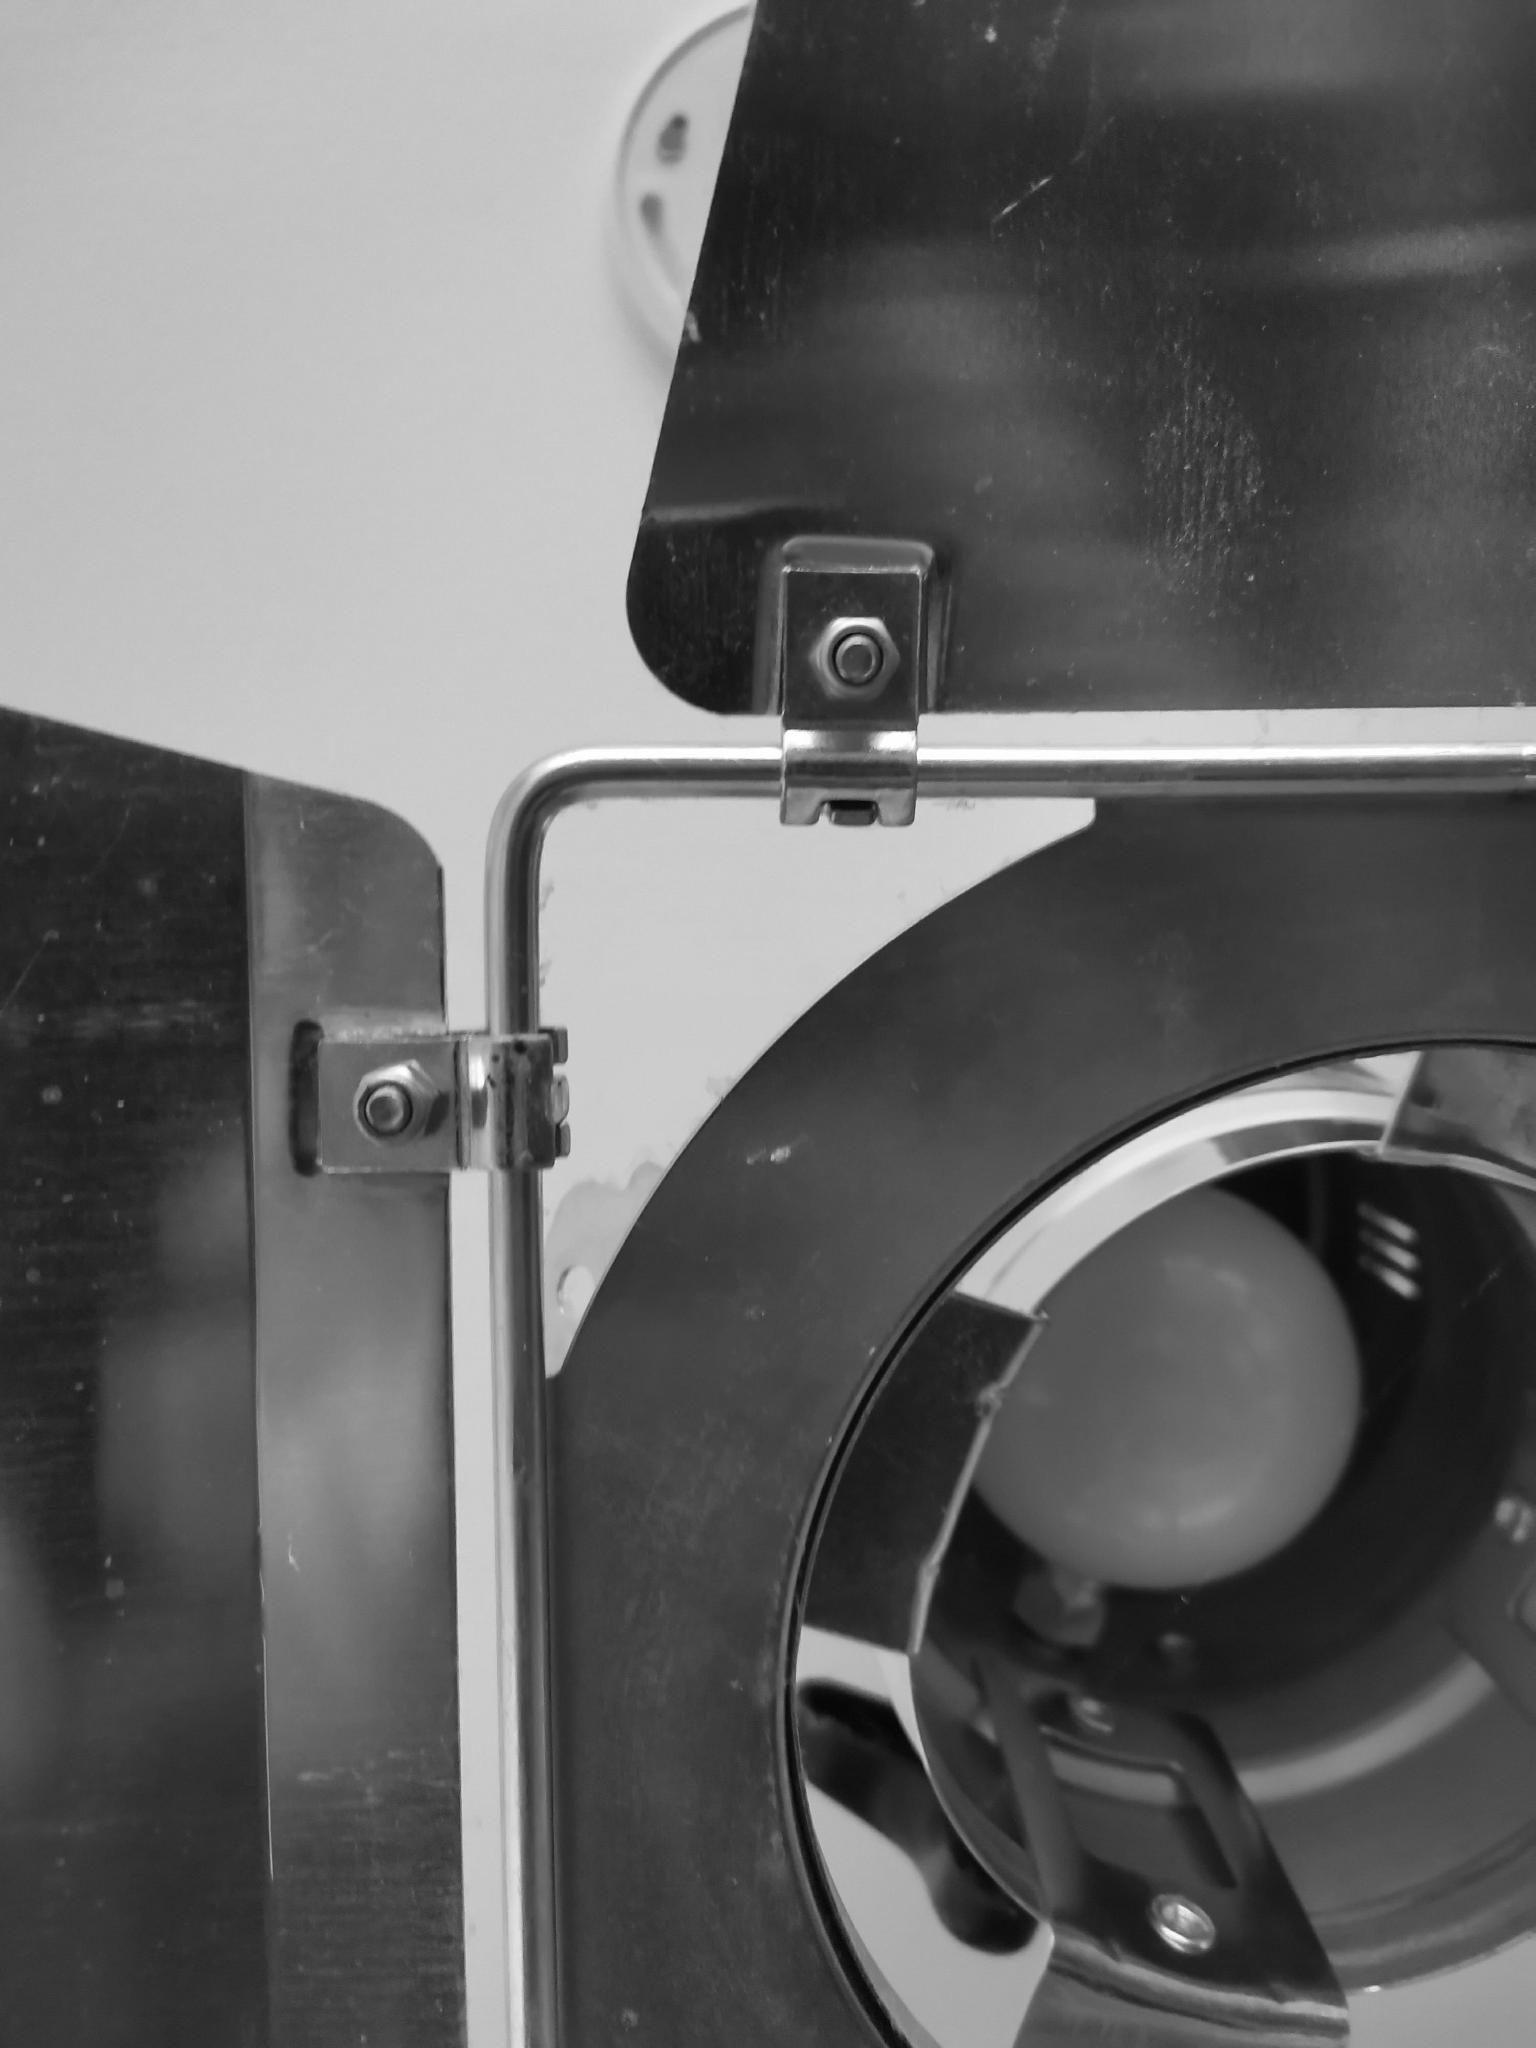hexagonal: (802, 616, 905, 714), (345, 1055, 445, 1150)
